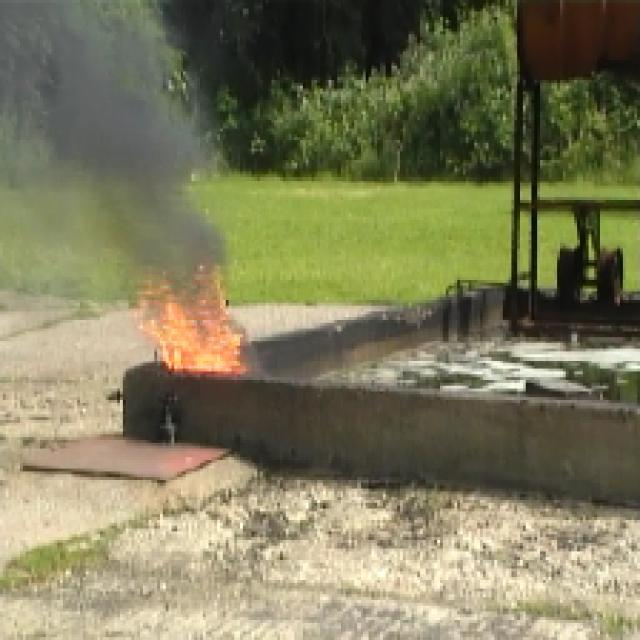Fire: (134, 308, 240, 376)
Smoke: (78, 60, 198, 254)
